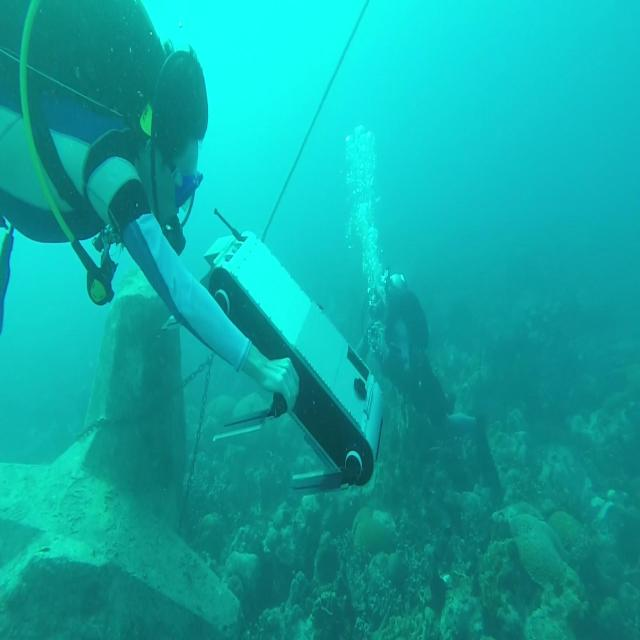human: (0, 0, 300, 424), (358, 267, 504, 511)
